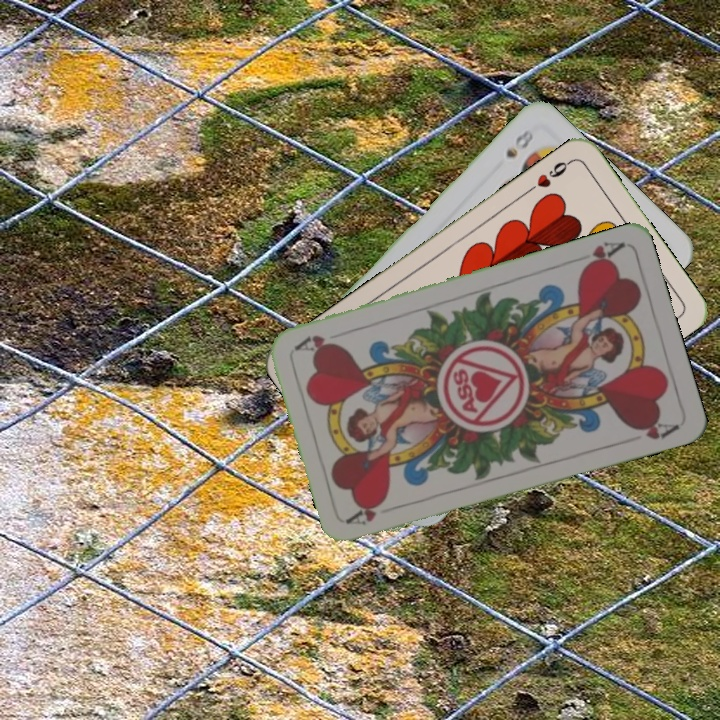H9: (524, 155, 575, 195)
HA: (576, 237, 627, 273), (344, 499, 403, 528)
S8: (501, 125, 537, 161)
